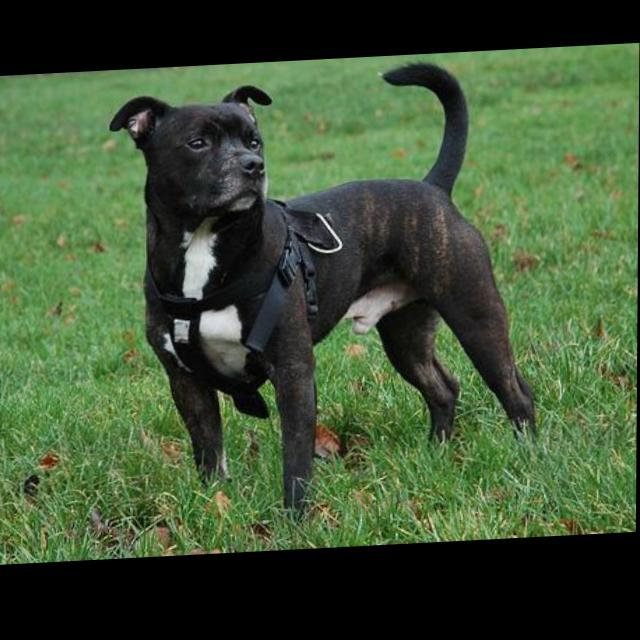staffford: (108, 60, 542, 531)
